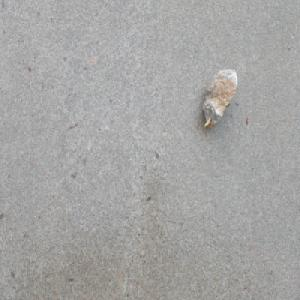Rock: (200, 67, 238, 131)
